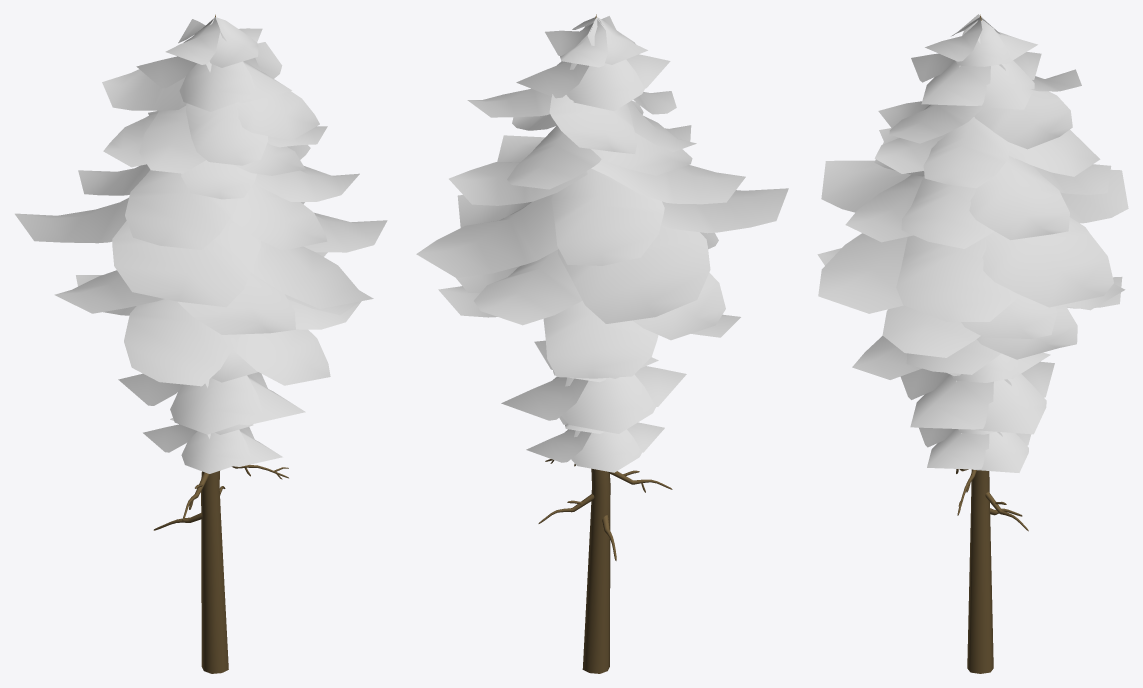
File: PineTree_2.fbx
3 views of the same model, side by side, from view 1: azimuth 30°, elevation 25°; view 2: azimuth 150°, elevation 25°; view 3: azimuth 270°, elevation 25° (orthographic).
Parts seen in each view (by area): view 1: PineTree_2, PineTree_2.001; view 2: PineTree_2, PineTree_2.001; view 3: PineTree_2, PineTree_2.001.
Part boxes in pixels (left/top/right/bottom): PineTree_2: left=15, top=17, right=387, bottom=473; PineTree_2.001: left=153, top=14, right=288, bottom=673; PineTree_2: left=416, top=16, right=788, bottom=472; PineTree_2.001: left=538, top=14, right=672, bottom=673; PineTree_2: left=817, top=14, right=1128, bottom=472; PineTree_2.001: left=956, top=14, right=1028, bottom=673.
Bounding box in the file's own units: 328 × 691 × 298.
